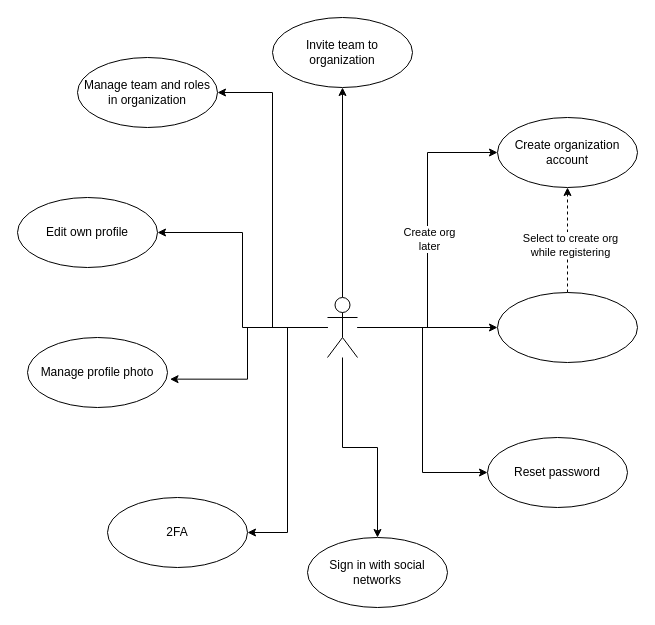
Some shapes in this 655 by 625 pixel diagram are drawn without their labels. Each missing label, with the centre of its shape:
Create account: pixel 567 327
WWW User: pixel 342 327
